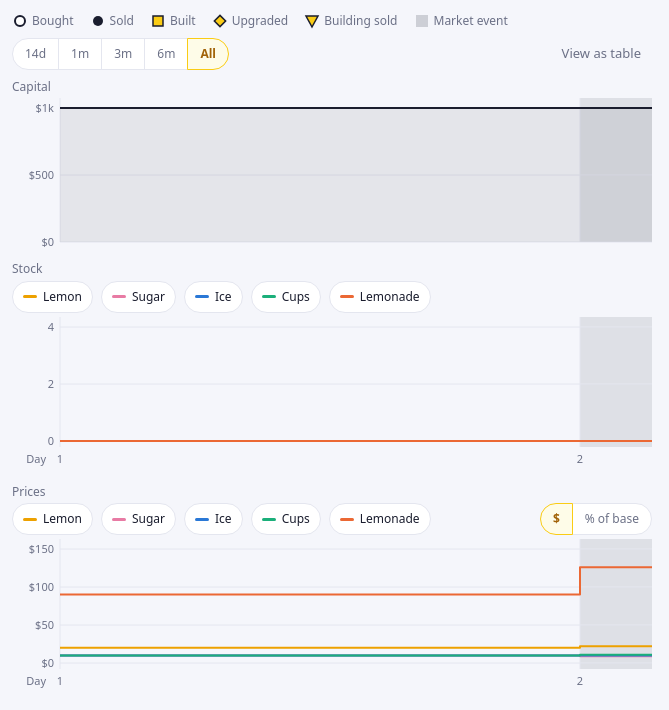
Scenario: TimelineChartsComponent › price chart › shows percent of base in the tooltip
The width and height of the screenshot is (669, 710).
Step 1. Click the button "% of base" → (612, 518), box [572, 502, 652, 534]
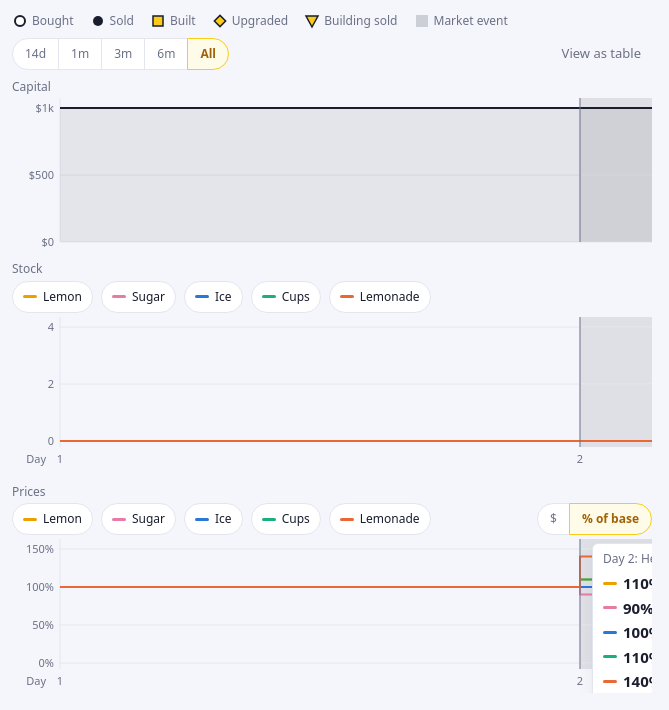
Check: the element with class "tip" shows "140%", box [623, 671, 652, 691]
